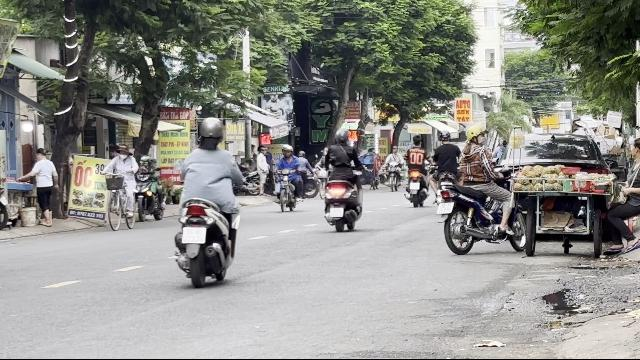helmet: (196, 117, 224, 149), (465, 124, 487, 144)
licenseplate: (182, 226, 206, 244), (436, 202, 454, 214)
motorcyclist: (170, 116, 243, 286), (438, 122, 518, 256)
